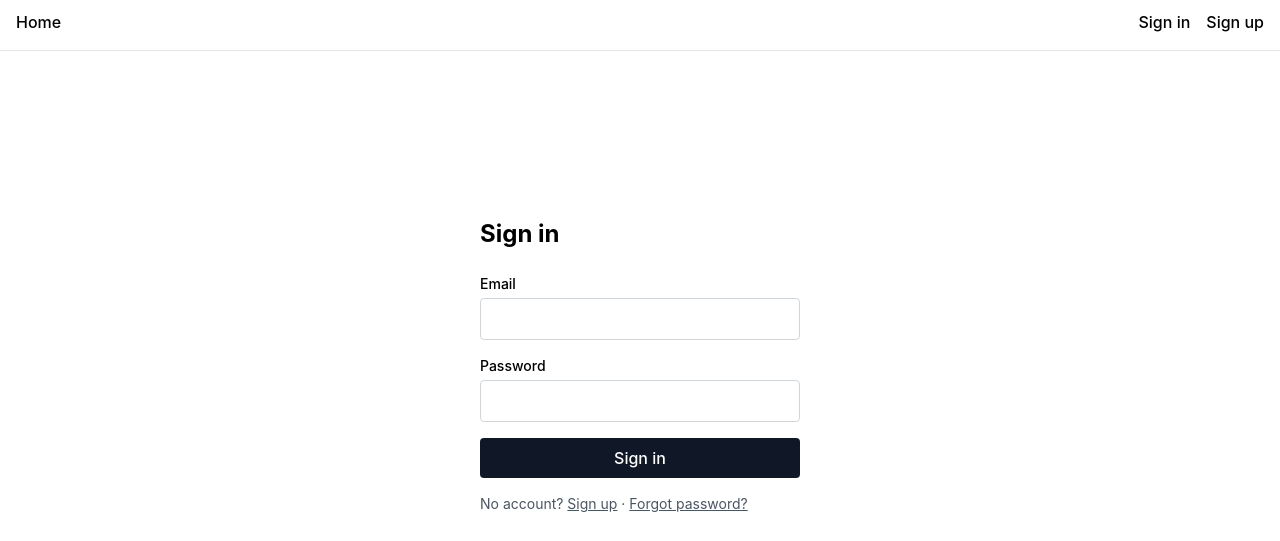
Test: Sign-in form › blocks submission and shows a field error for an invalid email
Type "not-an-email" into the field labelled "Email". click: (640, 319)
box: [480,298,800,340]
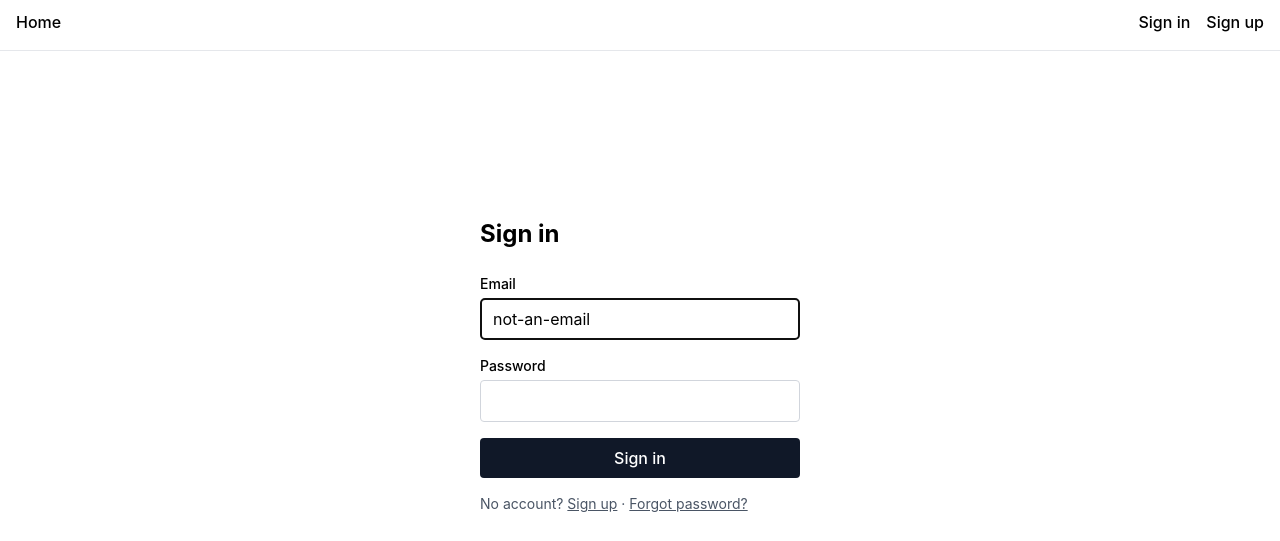
Type "hunter2222" into the password field labelled "Password". click: (640, 401)
box: [480,380,800,422]
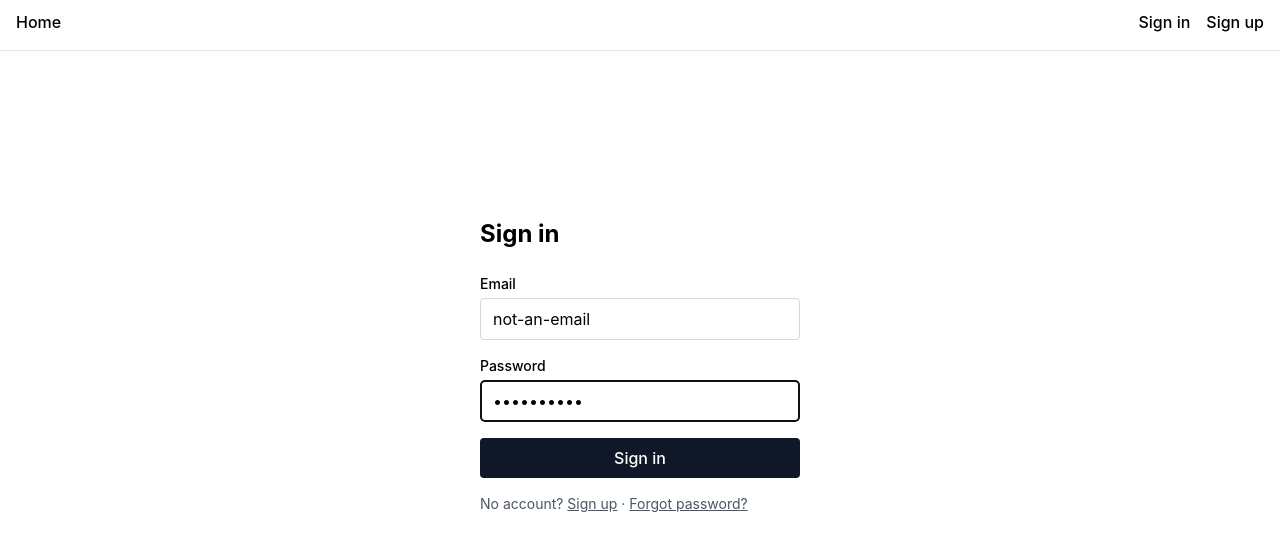
Click the button "Sign in". click: click(640, 458)
box: [480,438,800,478]
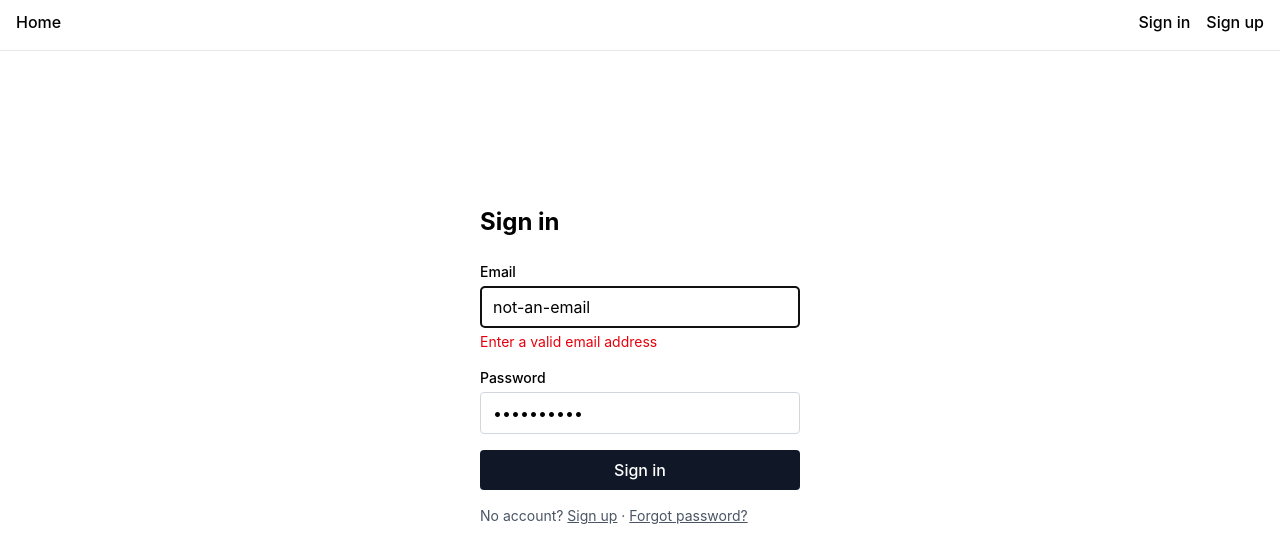
Now the text "Enter a valid email address" is shown, box [480,333,657,350]
